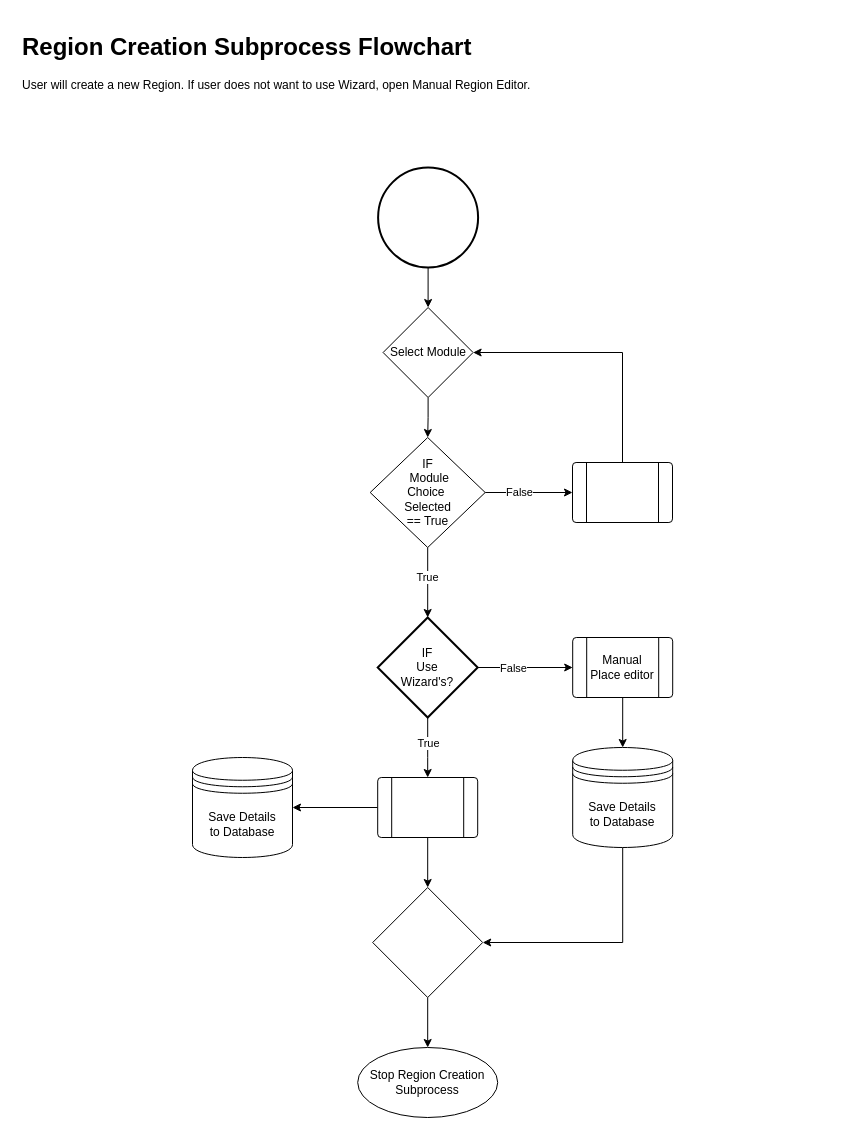
Some shapes in this 864 by 1135 pixel diagram are drawn without their labels. Here are the shapes that lost their labels. From the top down, the centre of each, then its label:
the point at 428,217: Start game
the point at 622,492: Module Creation Subprocess
the point at 427,807: Wizard Place editor
the point at 427,942: Save Changes and Exit
